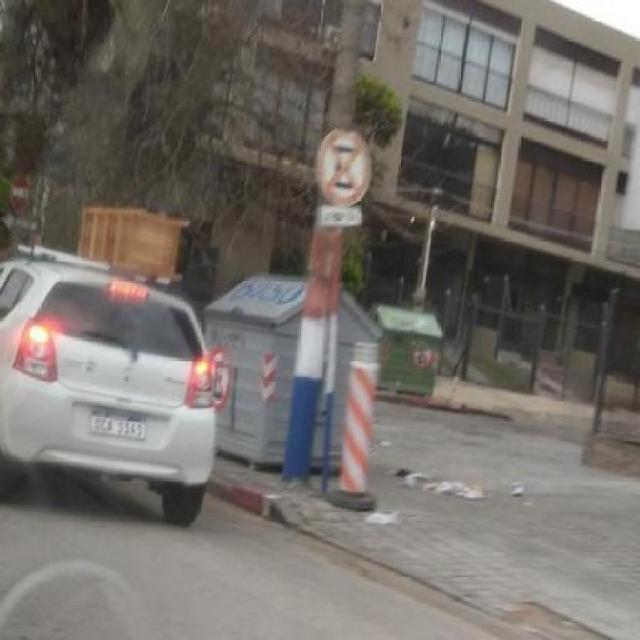garbage: (376, 449, 545, 522), (371, 428, 401, 462)
